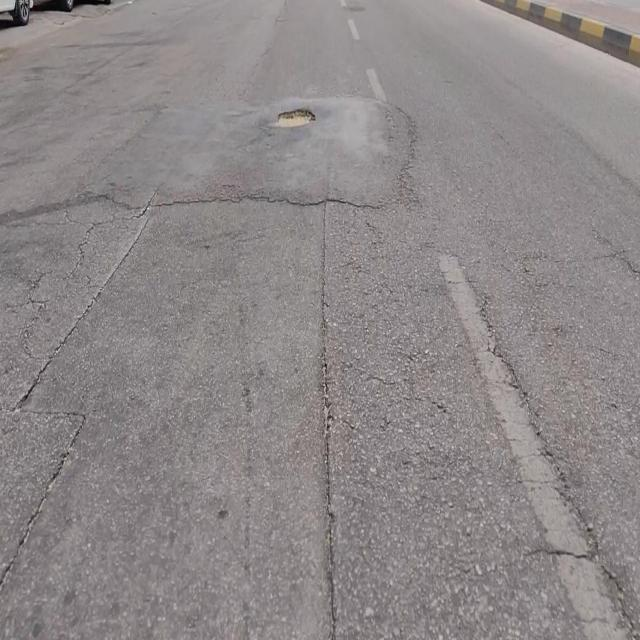Potholes: (274, 109, 315, 132)
